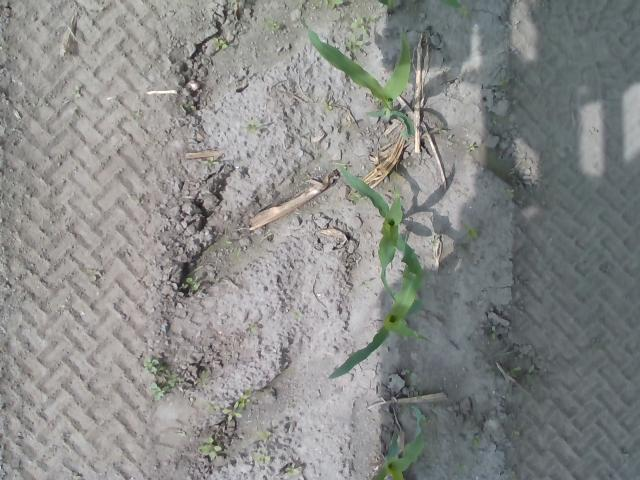Maize: (328, 234, 437, 378), (298, 17, 414, 139), (336, 166, 425, 304), (370, 401, 428, 480), (376, 0, 466, 17)
Weeds: (144, 352, 179, 400), (344, 15, 368, 54), (222, 394, 250, 422), (197, 436, 223, 460), (507, 362, 535, 382), (262, 18, 282, 32), (245, 120, 264, 134), (464, 222, 478, 239), (255, 430, 272, 444), (255, 452, 273, 464), (467, 432, 480, 448), (488, 324, 500, 341), (213, 37, 228, 50), (286, 464, 302, 476), (202, 157, 220, 167), (464, 142, 479, 152), (185, 278, 198, 289), (323, 0, 345, 6), (71, 85, 81, 98), (461, 5, 472, 16), (323, 100, 333, 112), (504, 188, 514, 200), (353, 192, 367, 200), (406, 371, 416, 382), (510, 430, 520, 439), (456, 462, 466, 471), (499, 78, 510, 86), (425, 416, 437, 423), (223, 240, 233, 246), (341, 160, 347, 170)
